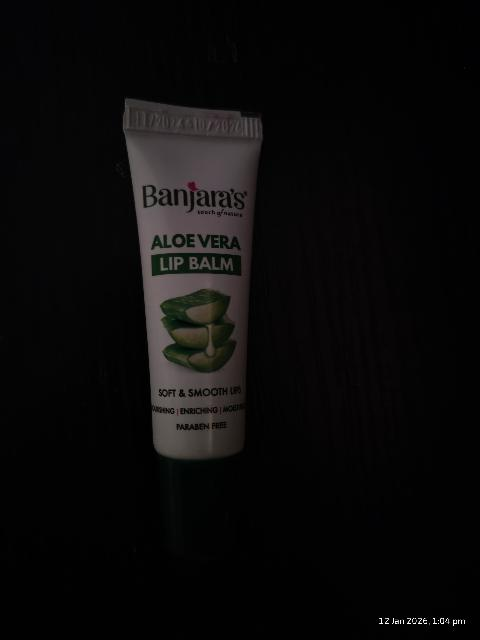banjaras lipbam: (109, 97, 279, 535)
